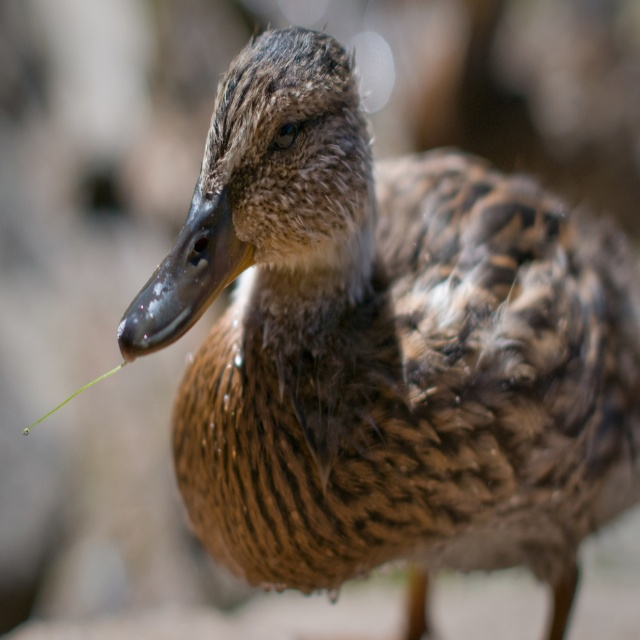Duck: (76, 35, 631, 638)
